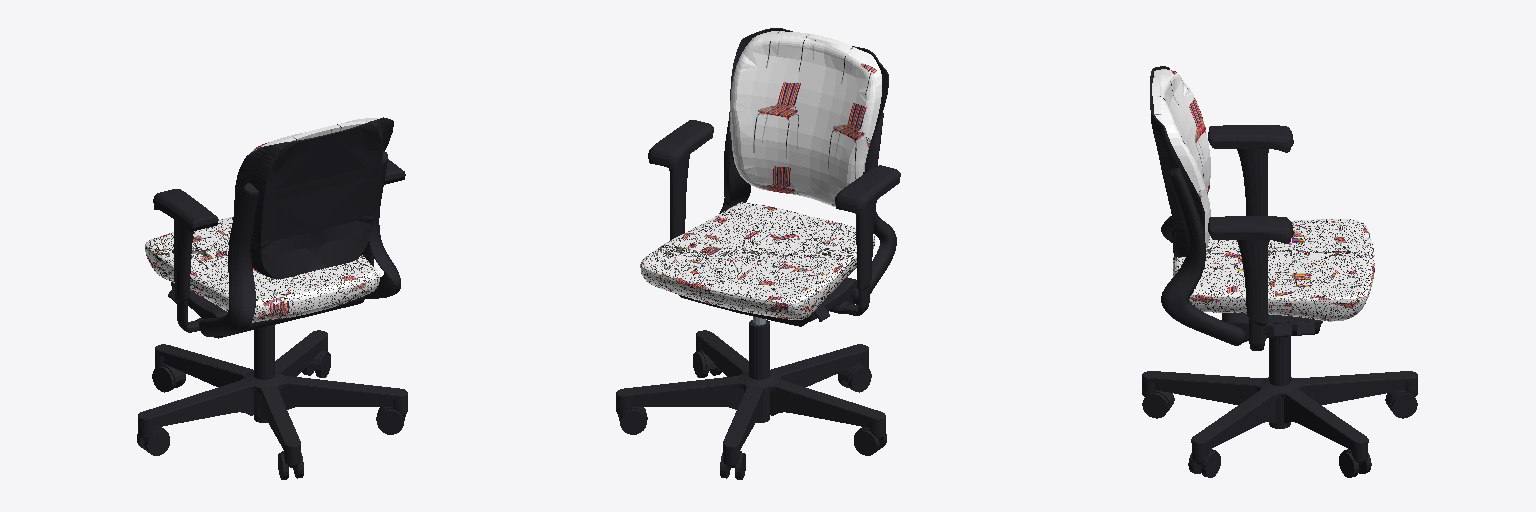
The picture shows the model from 3 angles: view 1: azimuth 30°, elevation 25°; view 2: azimuth 150°, elevation 25°; view 3: azimuth 270°, elevation 25°; orthographic projection.
Parts seen in each view (by area): view 1: mesh19_mesh19-geometry, mesh2_mesh2-geometry, mesh27_mesh27-geometry, mesh21_mesh21-geometry, mesh24_mesh24-geometry, mesh16_mesh16-geometry, mesh18_mesh18-geometry, mesh26_mesh26-geometry, mesh1_mesh1-geometry, mesh8_mesh8-geometry, mesh20_mesh20-geometry, mesh7_mesh7-geometry (+1 smaller); view 2: mesh20_mesh20-geometry, mesh27_mesh27-geometry, mesh2_mesh2-geometry, mesh21_mesh21-geometry, mesh16_mesh16-geometry, mesh13_mesh13-geometry, mesh18_mesh18-geometry, mesh1_mesh1-geometry, mesh26_mesh26-geometry, mesh12_mesh12-geometry, mesh24_mesh24-geometry, mesh19_mesh19-geometry (+3 smaller); view 3: mesh27_mesh27-geometry, mesh2_mesh2-geometry, mesh20_mesh20-geometry, mesh24_mesh24-geometry, mesh19_mesh19-geometry, mesh12_mesh12-geometry, mesh18_mesh18-geometry, mesh16_mesh16-geometry, mesh13_mesh13-geometry, mesh26_mesh26-geometry, mesh1_mesh1-geometry, mesh4_mesh4-geometry (+3 smaller).
Boxes of the visible parts, x1=… form: mesh19_mesh19-geometry: x1=233, y1=117, x2=393, y2=278; mesh2_mesh2-geometry: x1=138, y1=330, x2=407, y2=457; mesh27_mesh27-geometry: x1=145, y1=216, x2=379, y2=322; mesh21_mesh21-geometry: x1=199, y1=183, x2=258, y2=336; mesh24_mesh24-geometry: x1=365, y1=151, x2=400, y2=298; mesh16_mesh16-geometry: x1=153, y1=189, x2=218, y2=227; mesh18_mesh18-geometry: x1=174, y1=220, x2=193, y2=303; mesh26_mesh26-geometry: x1=168, y1=282, x2=364, y2=338; mesh1_mesh1-geometry: x1=254, y1=325, x2=274, y2=422; mesh8_mesh8-geometry: x1=137, y1=427, x2=169, y2=455; mesh20_mesh20-geometry: x1=252, y1=118, x2=377, y2=273; mesh7_mesh7-geometry: x1=152, y1=361, x2=185, y2=392; mesh20_mesh20-geometry: x1=730, y1=31, x2=881, y2=206; mesh27_mesh27-geometry: x1=640, y1=202, x2=874, y2=319; mesh2_mesh2-geometry: x1=616, y1=330, x2=885, y2=457; mesh21_mesh21-geometry: x1=852, y1=113, x2=896, y2=304; mesh16_mesh16-geometry: x1=835, y1=165, x2=900, y2=210; mesh13_mesh13-geometry: x1=648, y1=120, x2=713, y2=164; mesh18_mesh18-geometry: x1=856, y1=200, x2=876, y2=290; mesh1_mesh1-geometry: x1=749, y1=320, x2=769, y2=422; mesh26_mesh26-geometry: x1=679, y1=277, x2=856, y2=326; mesh12_mesh12-geometry: x1=669, y1=155, x2=689, y2=240; mesh24_mesh24-geometry: x1=719, y1=121, x2=750, y2=213; mesh19_mesh19-geometry: x1=729, y1=28, x2=888, y2=173; mesh27_mesh27-geometry: x1=1173, y1=219, x2=1374, y2=321; mesh2_mesh2-geometry: x1=1142, y1=371, x2=1417, y2=453; mesh20_mesh20-geometry: x1=1152, y1=69, x2=1210, y2=247; mesh24_mesh24-geometry: x1=1161, y1=168, x2=1245, y2=345; mesh19_mesh19-geometry: x1=1150, y1=66, x2=1204, y2=256; mesh12_mesh12-geometry: x1=1237, y1=240, x2=1268, y2=325; mesh18_mesh18-geometry: x1=1237, y1=149, x2=1268, y2=215; mesh16_mesh16-geometry: x1=1208, y1=125, x2=1293, y2=146; mesh13_mesh13-geometry: x1=1208, y1=216, x2=1293, y2=237; mesh26_mesh26-geometry: x1=1222, y1=313, x2=1322, y2=342; mesh1_mesh1-geometry: x1=1269, y1=336, x2=1290, y2=428; mesh4_mesh4-geometry: x1=1142, y1=387, x2=1174, y2=418.
Bounding box in the file's own units: 0.5006 × 0.6983 × 0.5116.
4 materials, 4 textured.